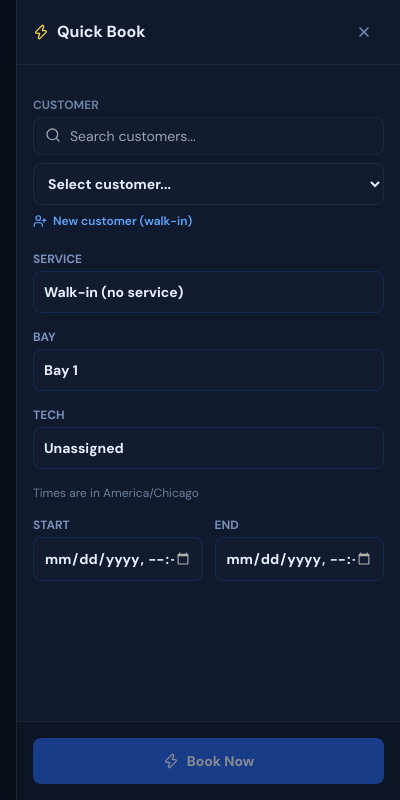
Test: QuickBookPanel — alignment filter (audit P1 #4 follow-up) › shows inline blocking message + disables Book Now when service has zero qualified staff
Select "Tire Mount (60min)" in the dropdown with test id "quick-book-service" at point(208, 292), box [33,271,384,313]
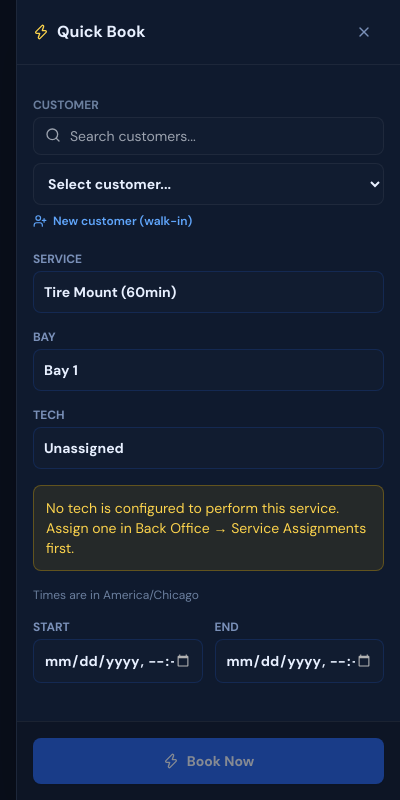
Expected: the button with test id "quick-book-confirm" is disabled, [33,738,384,784]
Now the message with test id "quick-book-alignment-blocked" is shown, box [33,485,384,571]
Now the message with test id "quick-book-alignment-blocked" shows "No tech is configured", box [46,499,366,557]
